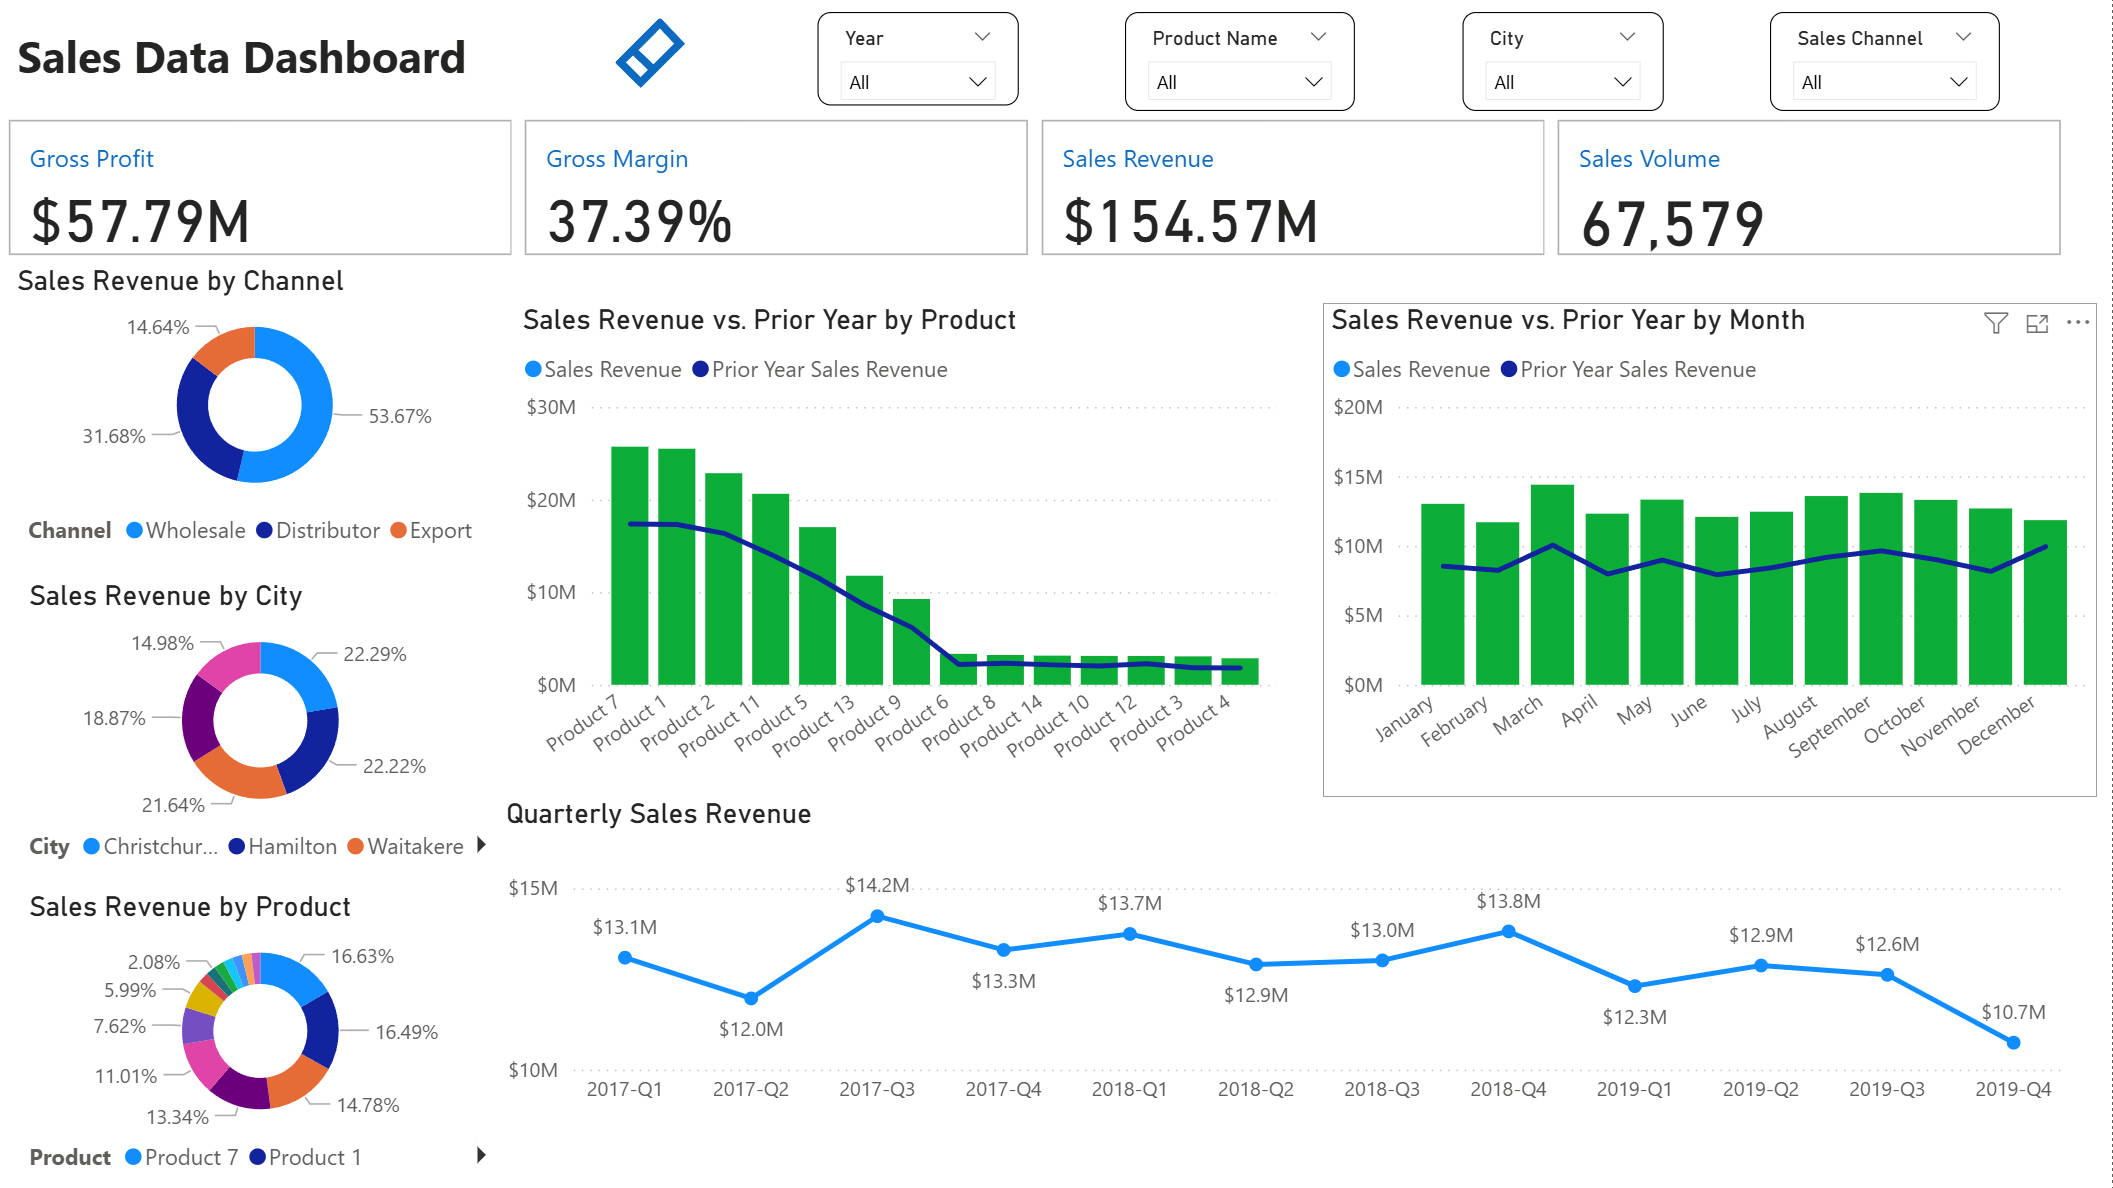

This screenshot's page, from the dashboard's own definition file:
{"tool":"powerbi","page":{"name":"Page 1","canvas":[1280,720],"ordinal":0},"visuals":[{"type":"slicer","fields":{"Values":["dDate.Year"]},"box":[495.5,7.3,121.8,56.4],"z":0},{"type":"slicer","fields":{"Values":["Products_Data.产品名称"]},"box":[682.1,7.3,139.1,60],"z":1000},{"type":"slicer","fields":{"Values":["Regions_Table.城市"]},"box":[886.1,7.3,121.8,60],"z":2000},{"type":"slicer","fields":{"Values":["Sales_Data.销售渠道"]},"box":[1072.7,7.3,139.1,60],"z":3000},{"type":"cardVisual","fields":{"Data":["DAX Table.Gross Profit","DAX Table.Gross Margin","DAX Table.Sales Revenue","DAX Table.Sales Volume"]},"box":[0,77.7,1271.5,93.1],"z":4000},{"type":"donutChart","title":"Sales Revenue by Channel","fields":{"Category":["Sales_Data.销售渠道"],"Y":["DAX Table.Sales Revenue"]},"box":[7.7,177.7,297.7,170.8],"z":5000},{"type":"donutChart","title":"Sales Revenue by Product ","fields":{"Y":["DAX Table.Sales Revenue"],"Category":["Products_Data.产品名称"]},"box":[7.7,539.2,297.7,173.1],"z":6000},{"type":"donutChart","fields":{"Y":["DAX Table.Sales Revenue"],"Category":["Regions_Table.城市"]},"box":[7.7,356.9,297.7,173.8],"z":7000},{"type":"lineChart","title":"Quarterly Sales Revenue","fields":{"Category":["dDate.Year-Quarter"],"Y":["DAX Table.Sales Revenue"]},"box":[311.5,497.7,960,209.2],"z":8000},{"type":"lineClusteredColumnComboChart","title":"Sales Revenue vs. Prior Year by Product","fields":{"Category":["Products_Data.产品名称"],"Y":["DAX Table.Sales Revenue"],"Y2":["DAX Table.Prior Year Sales Revenue"]},"box":[311.5,183.8,470,307.7],"z":9000},{"type":"lineClusteredColumnComboChart","title":"Sales Revenue vs. Prior Year by Month","fields":{"Y":["DAX Table.Sales Revenue"],"Y2":["DAX Table.Prior Year Sales Revenue"],"Category":["dDate.Month"]},"box":[788.5,183.8,483.1,307.7],"z":10000},{"type":"actionButton","box":[427.7,12.3,48.5,46.2],"z":11000},{"type":"textbox","box":[65.4,15.4,296.9,62.3],"z":12000}]}

Visuals, with their boxes in screenshot pixels (x1, y1, x2, y2), scaled from the page's 1280x720 canvas onto the 2113x1188 screenshot:
slicer - dDate.Year: 818,12,1019,105
slicer - Products_Data.产品名称: 1126,12,1356,111
slicer - Regions_Table.城市: 1463,12,1664,111
slicer - Sales_Data.销售渠道: 1771,12,2000,111
cardVisual - DAX Table.Gross Profit x DAX Table.Gross Margin: 0,128,2099,282
"Sales Revenue by Channel" donutChart: 13,293,504,575
"Sales Revenue by Product " donutChart: 13,890,504,1175
donutChart - DAX Table.Sales Revenue x Regions_Table.城市: 13,589,504,876
"Quarterly Sales Revenue" lineChart: 514,821,2099,1166
"Sales Revenue vs. Prior Year by Product" lineClusteredColumnComboChart: 514,303,1290,811
"Sales Revenue vs. Prior Year by Month" lineClusteredColumnComboChart: 1302,303,2099,811
actionButton: 706,20,786,97
textbox: 108,25,598,128
